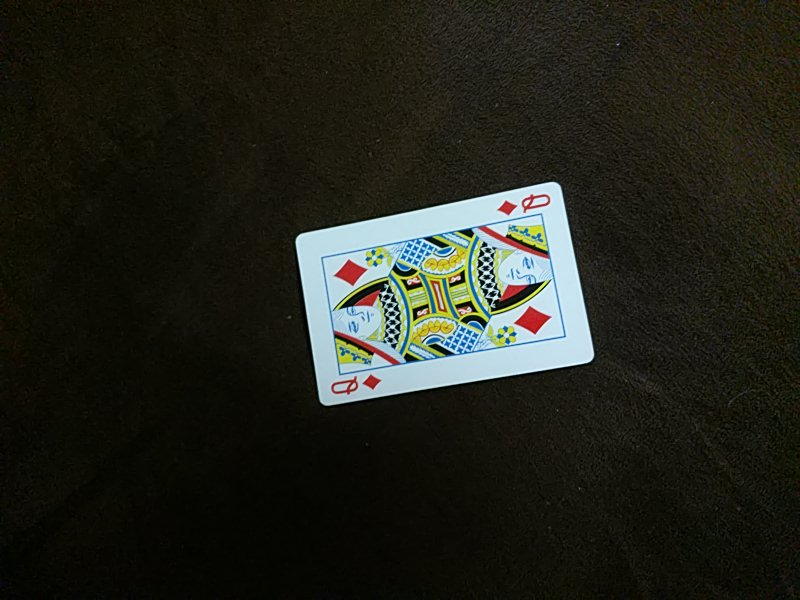Diamonds: (294, 183, 595, 406)
